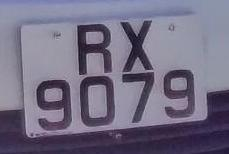0: (72, 71, 125, 130)
7: (119, 66, 163, 130)
9: (157, 62, 201, 127), (31, 72, 76, 135)
R: (66, 16, 120, 80)
X: (114, 16, 165, 75)
